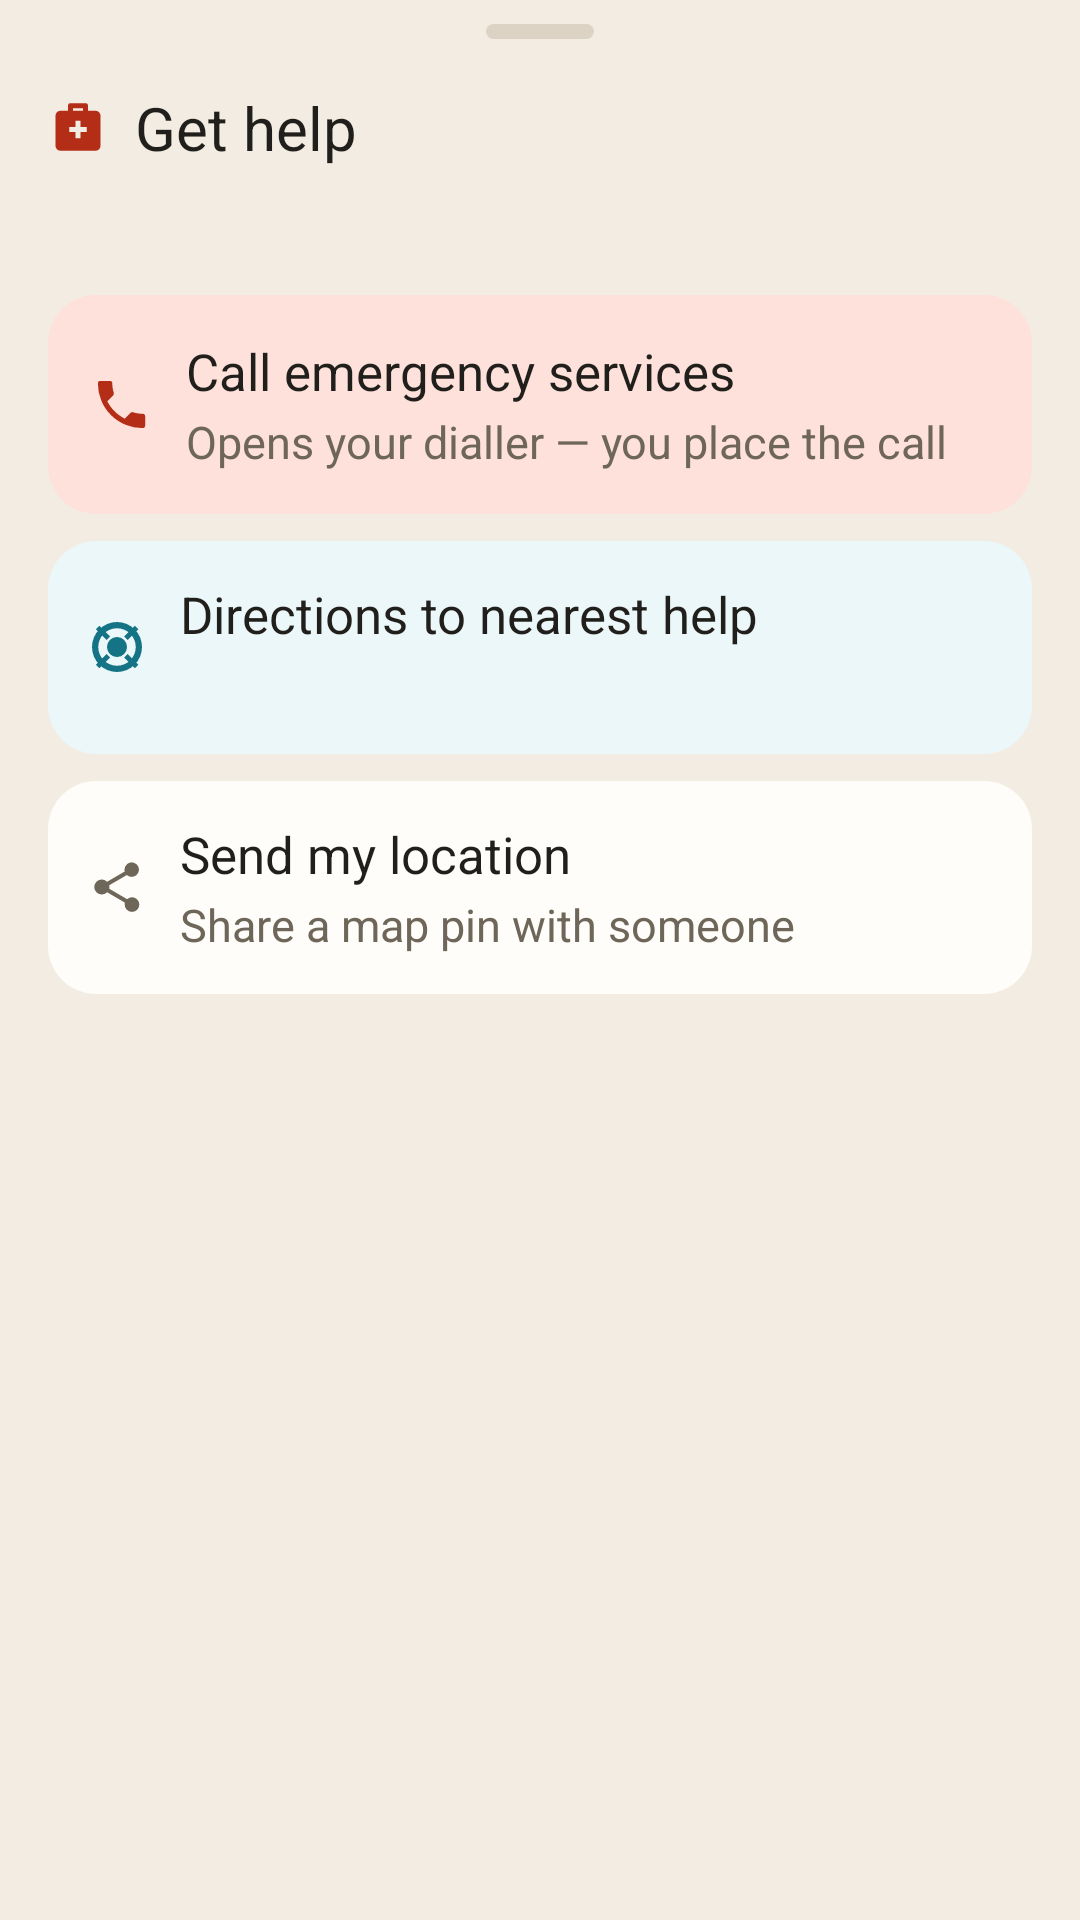

Icon bounding boxes for this 1080px x 1920px phone screenshot, format (x1, y1, x2, y2):
first aid: (55, 103, 101, 151)
lifebuoy: (92, 622, 142, 672)
phone: (98, 381, 146, 428)
